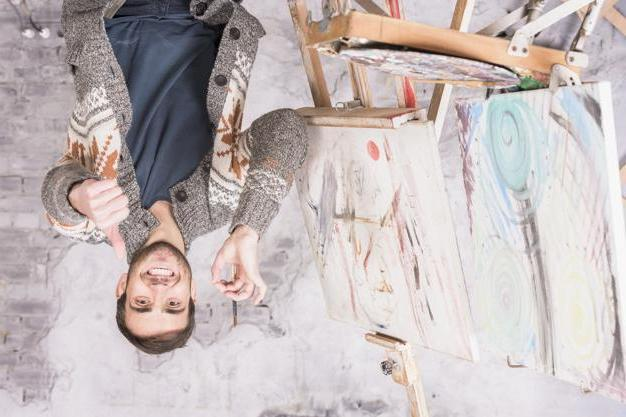thumbsdown: (85, 179, 130, 260)
